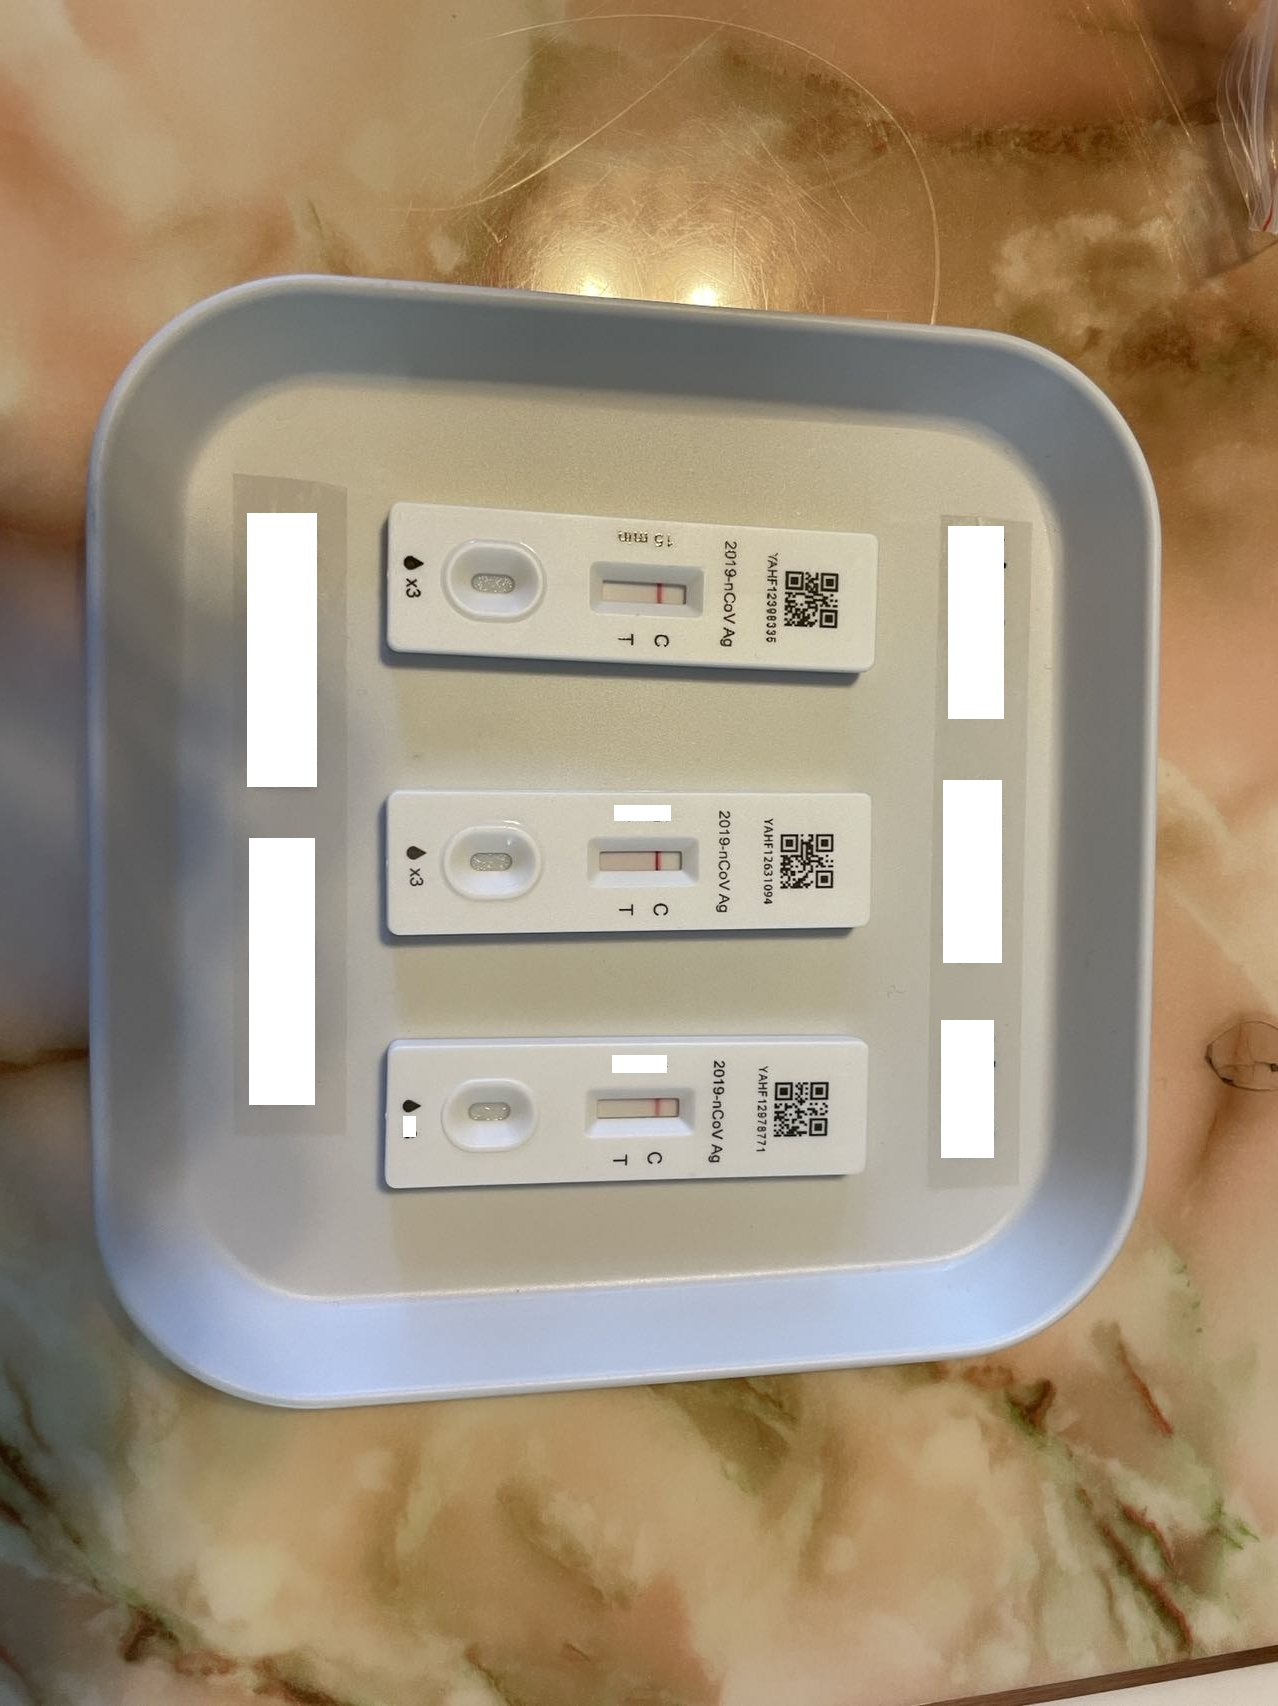negative: (587, 560, 703, 613), (587, 834, 701, 885), (584, 1085, 699, 1129)
